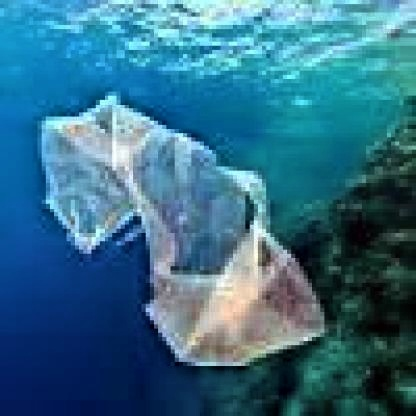pbag: (38, 92, 328, 366)
